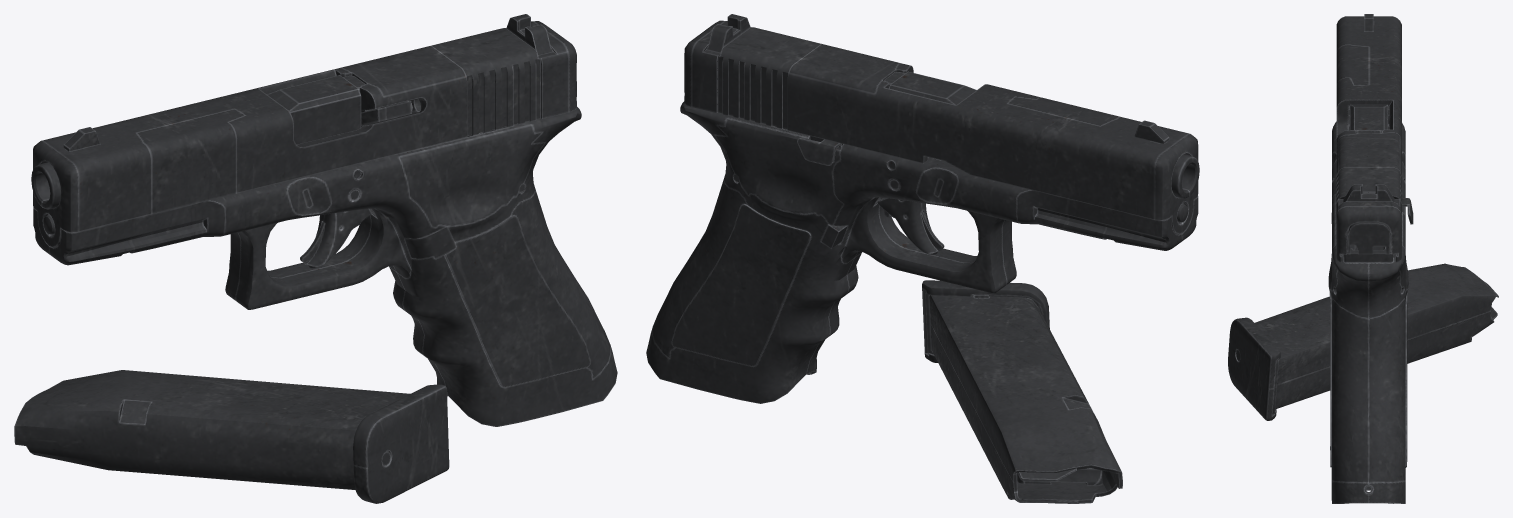
File: Glok17.fbx
The picture shows the model from 3 angles, left to right: view 1: azimuth 30°, elevation 25°; view 2: azimuth 150°, elevation 25°; view 3: azimuth 270°, elevation 25°; orthographic projection. The views are drawn at different scales.
Parts seen in each view (by area): view 1: Mesh.001, Mesh; view 2: Mesh.001, Mesh; view 3: Mesh.001, Mesh.
Part boxes in pixels (box(x1,y1,x2,y2)): Mesh.001: box(31, 14, 617, 426); Mesh: box(14, 370, 449, 503); Mesh.001: box(646, 14, 1199, 403); Mesh: box(922, 280, 1122, 503); Mesh.001: box(1328, 14, 1413, 503); Mesh: box(1228, 263, 1498, 420).
Size of the model in its own units: 19.98 by 12.59 by 10.37.
